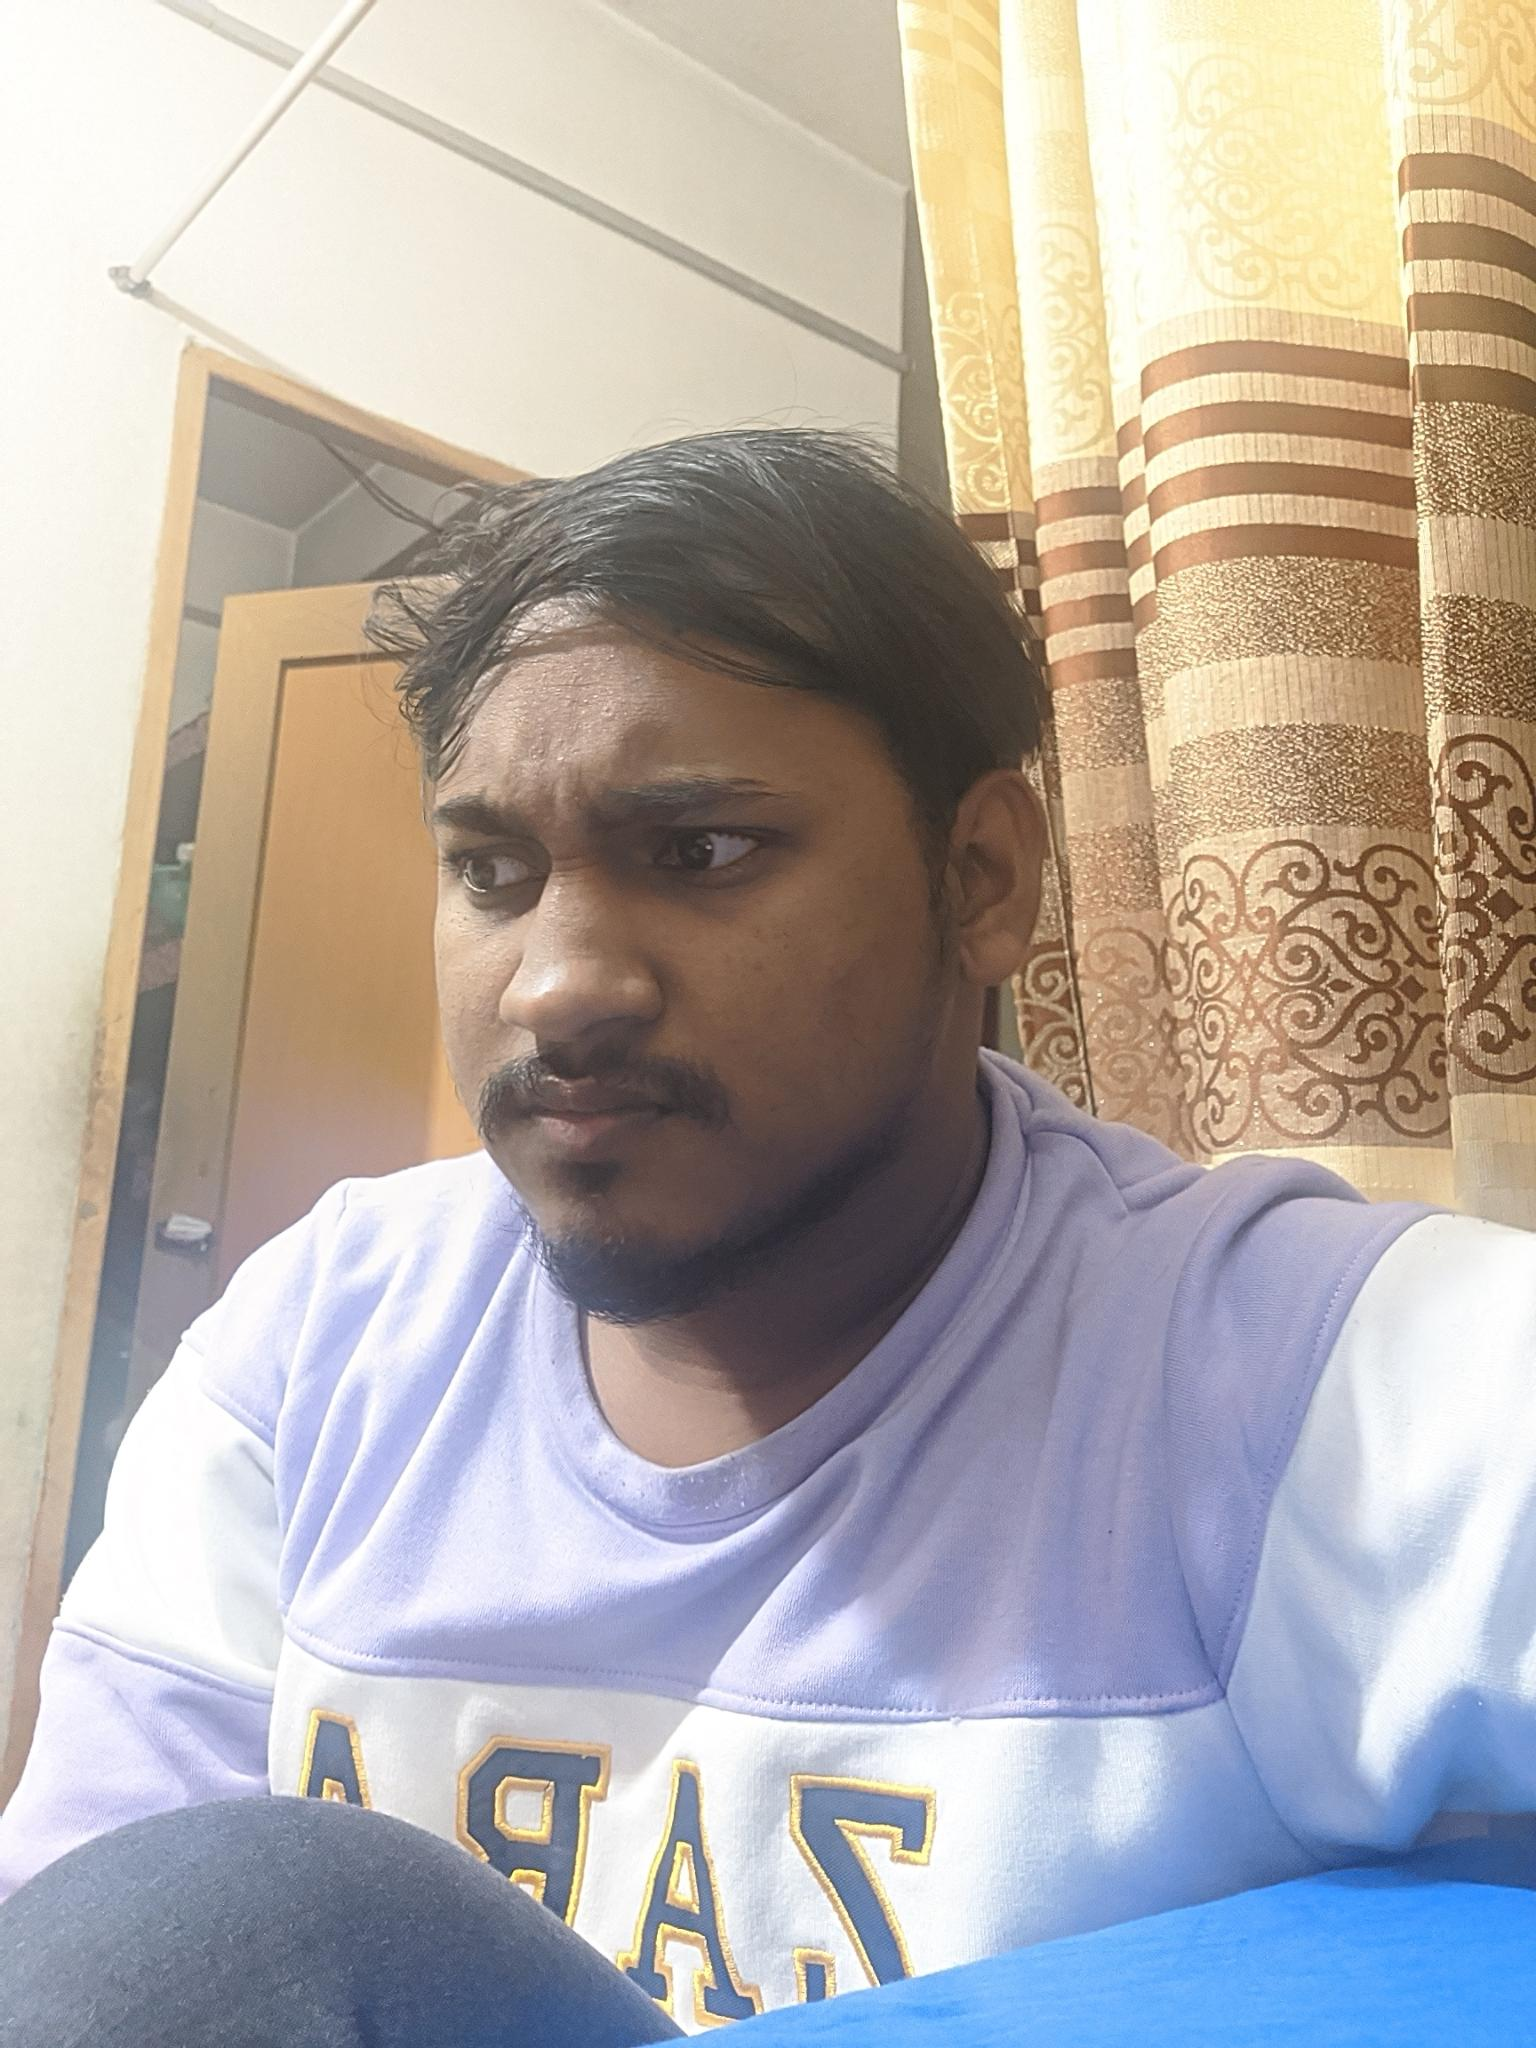Angry: (374, 674, 863, 1305)
